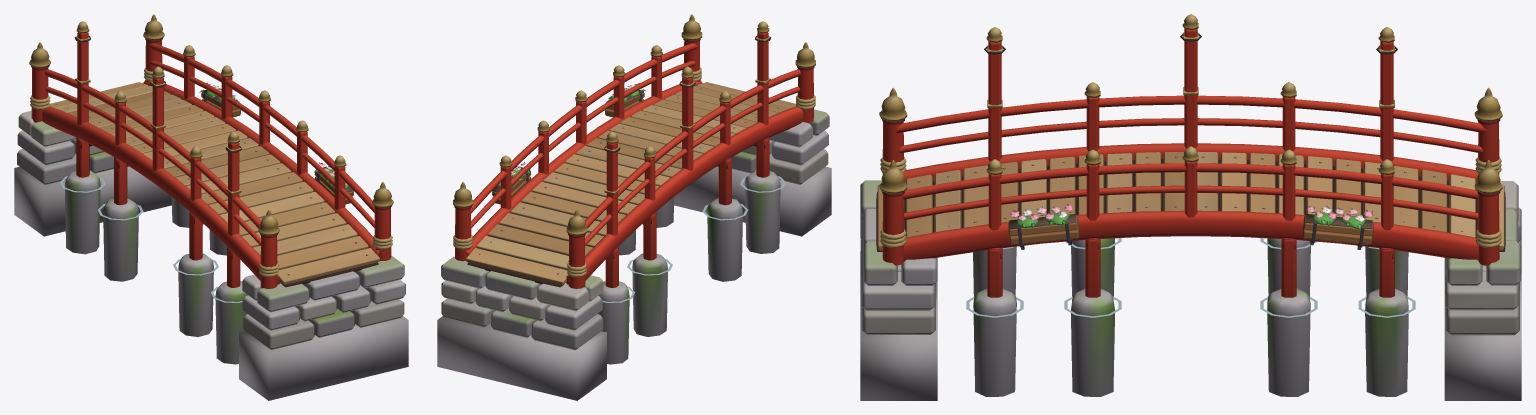
The model's file is bridge.glb.
3 views of the same model, side by side, from view 1: azimuth 30°, elevation 25°; view 2: azimuth 150°, elevation 25°; view 3: azimuth 270°, elevation 25° (orthographic). The views are drawn at different scales.
Visible parts, largest first — view 1: bridge; view 2: bridge; view 3: bridge.
Boxes of the visible parts, left/top/right/bottom form: bridge: left=14, top=14, right=408, bottom=400; bridge: left=437, top=14, right=831, bottom=400; bridge: left=860, top=14, right=1521, bottom=400.
Bounding box in the file's own units: 3.22 × 4.87 × 9.45.
